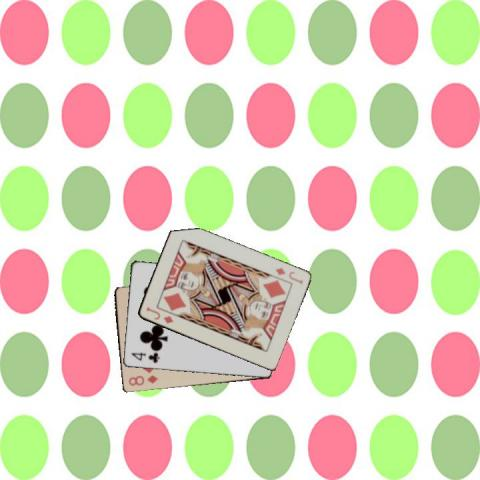4c: (128, 349, 161, 365)
8d: (126, 373, 160, 387)
Jd: (142, 304, 174, 325), (272, 265, 304, 285)
